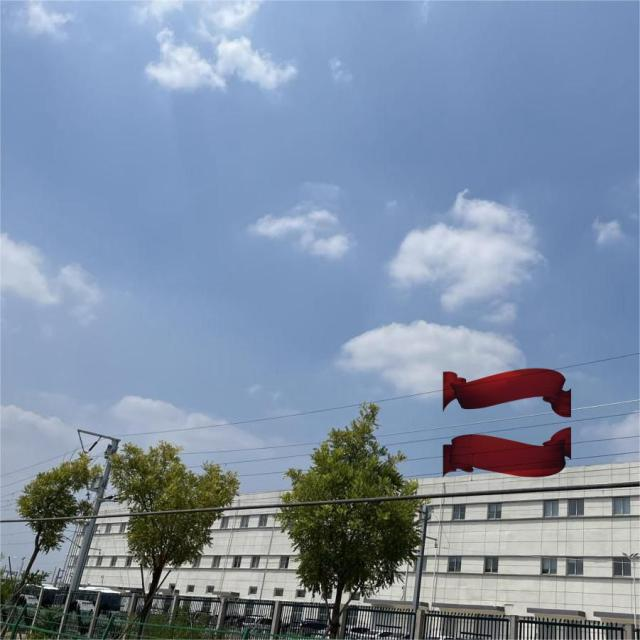floating object: (442, 361, 576, 416), (440, 429, 576, 481)
